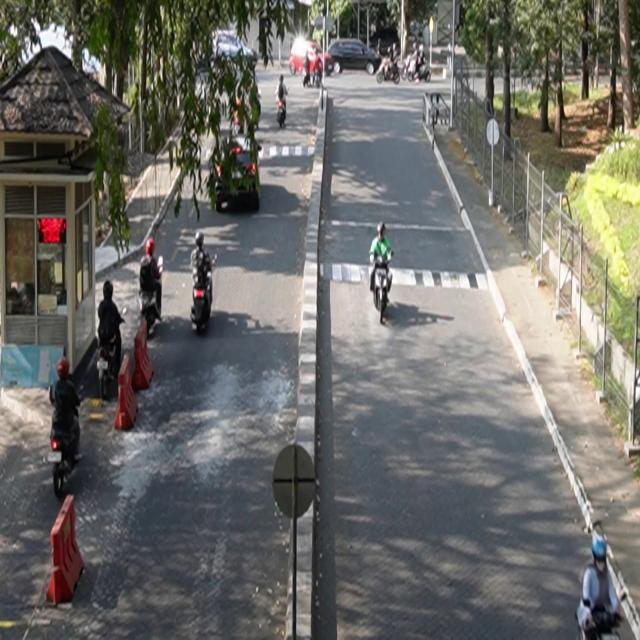car: (211, 136, 262, 214), (327, 39, 382, 76)
